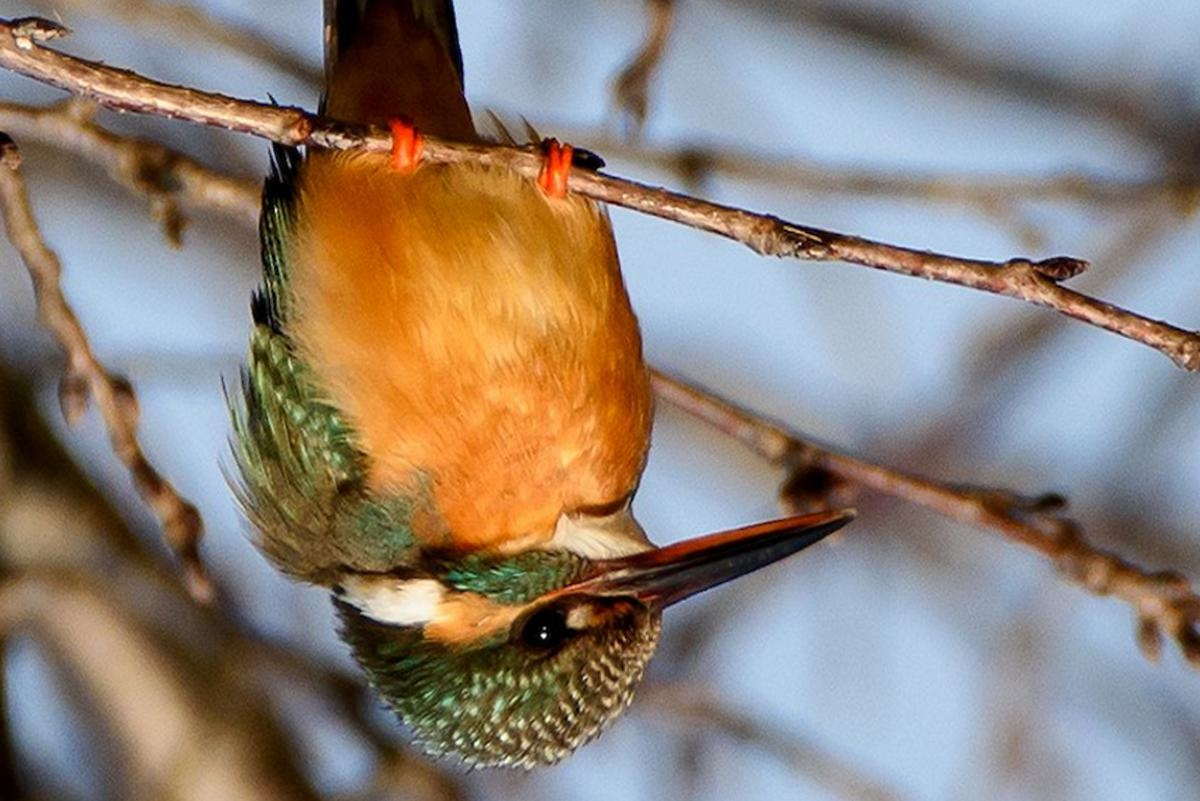kingfisher: (195, 22, 860, 764)
